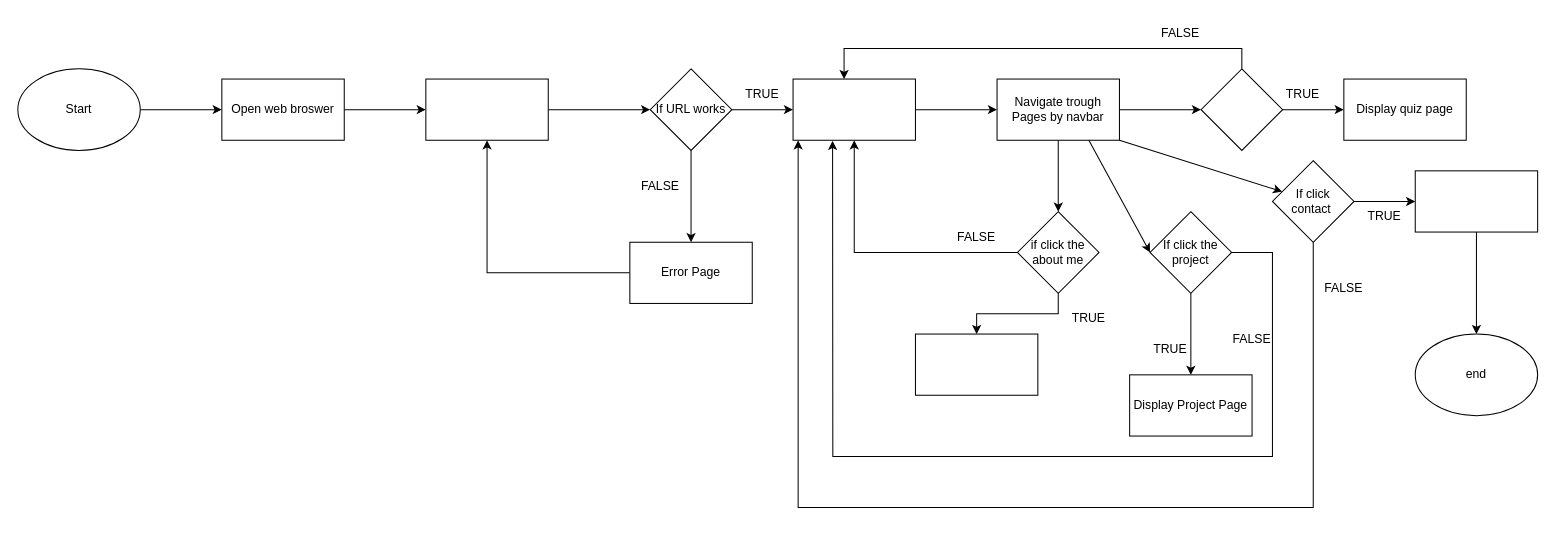
The diagram is 1556 pixels wide and 533 high, and some of its shapes have lost their labels. Each missing label, with the centre of its shape:
About page will Display: (x=976, y=364)
Display contact page: (x=1476, y=201)
Display Home Page: (x=853, y=109)
if click the quiz: (x=1241, y=109)
Put URL to browser: (x=486, y=109)
